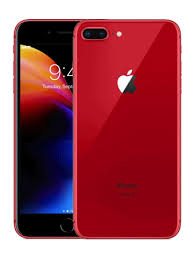iphone8: (12, 16, 184, 240), (70, 15, 182, 238)
